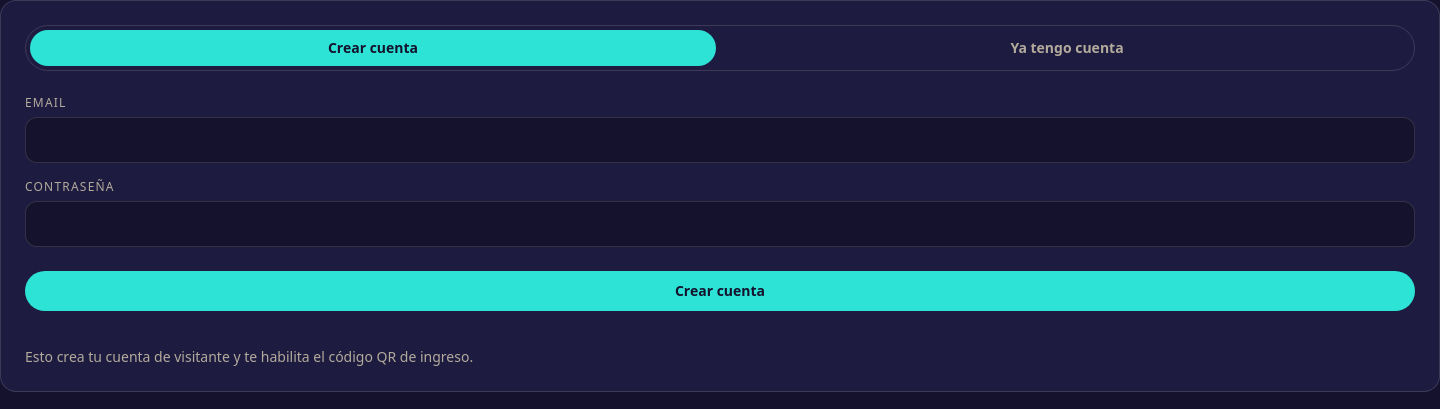
Test: AccessForm › crea una cuenta nueva con el formulario de registro por defecto
Expected: the tab "Crear cuenta" is shown, [30,30,716,66]
Type "visitante@example.com" into the field labelled "Email" at (720, 140), box [25,117,1415,163]
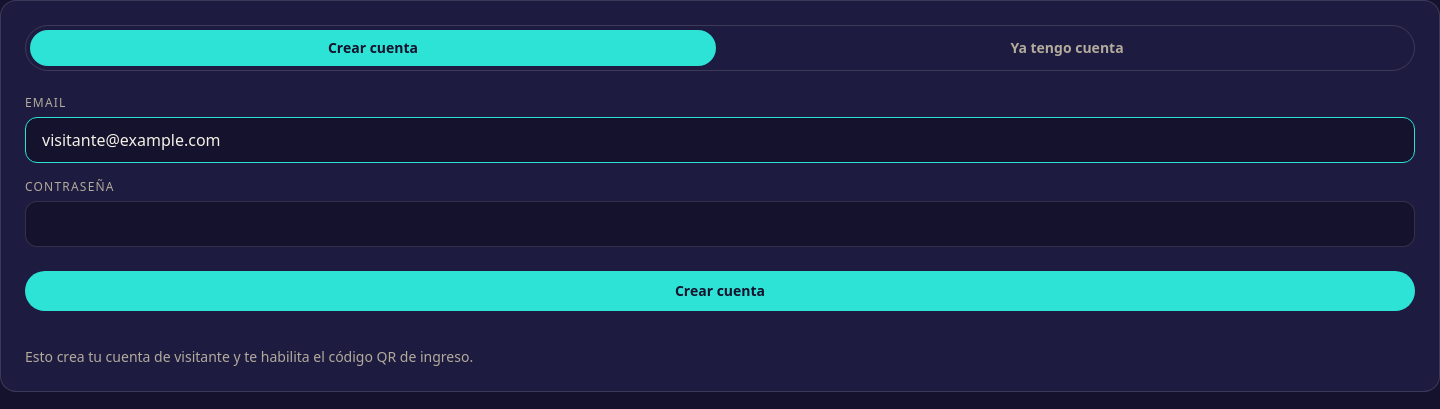
Type "secreto123" into the password field labelled "Contraseña" at (720, 224), box [25,201,1415,247]
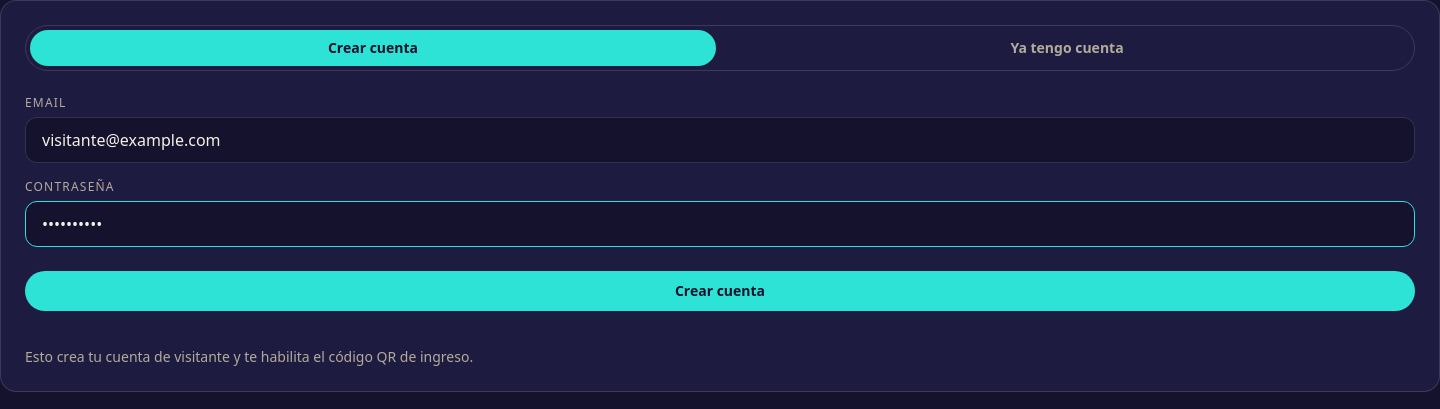
Click the button "Crear cuenta" at (720, 291), box [25,271,1415,311]
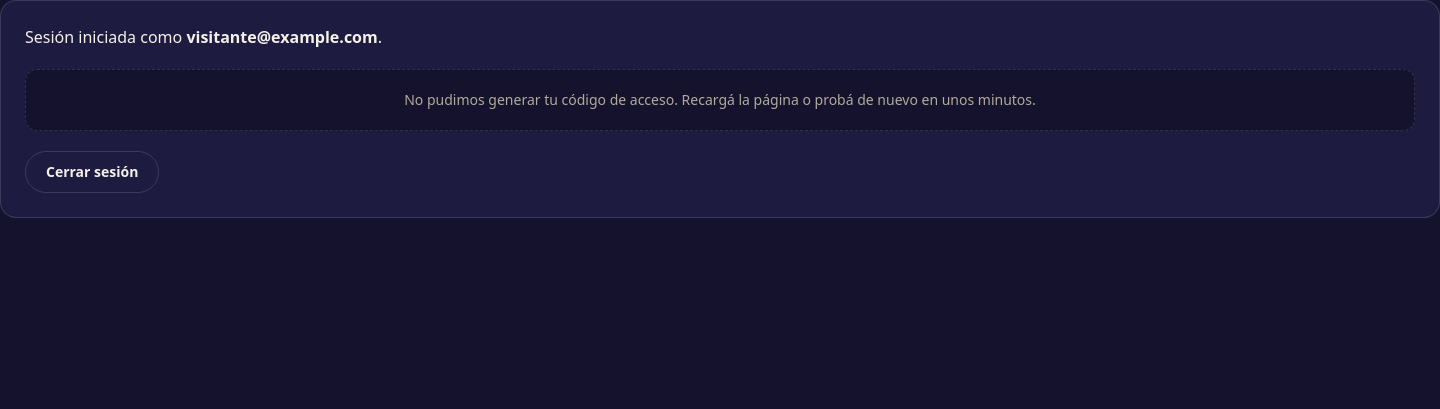
Now the text "Sesión iniciada como visitante@example.com." is shown, box [25,26,382,48]
Now the text "visitante@example.com" is shown, box [186,26,378,48]
